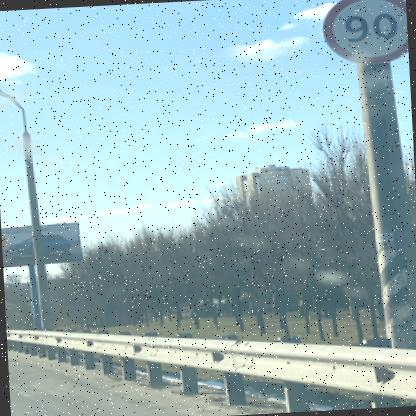speedlimit: (318, 0, 408, 66)
